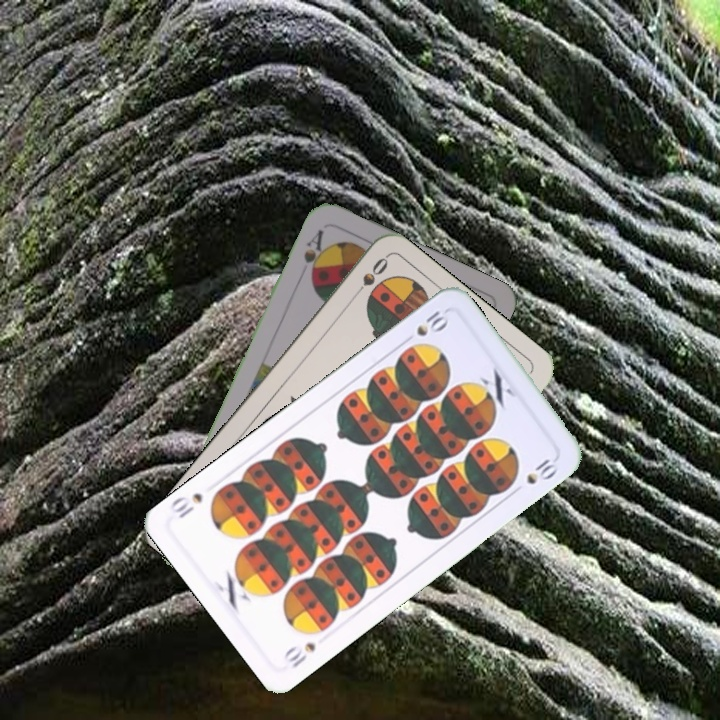S10: (400, 306, 453, 347), (279, 638, 319, 671)
SA: (299, 225, 330, 284)
SO: (347, 253, 391, 303)
